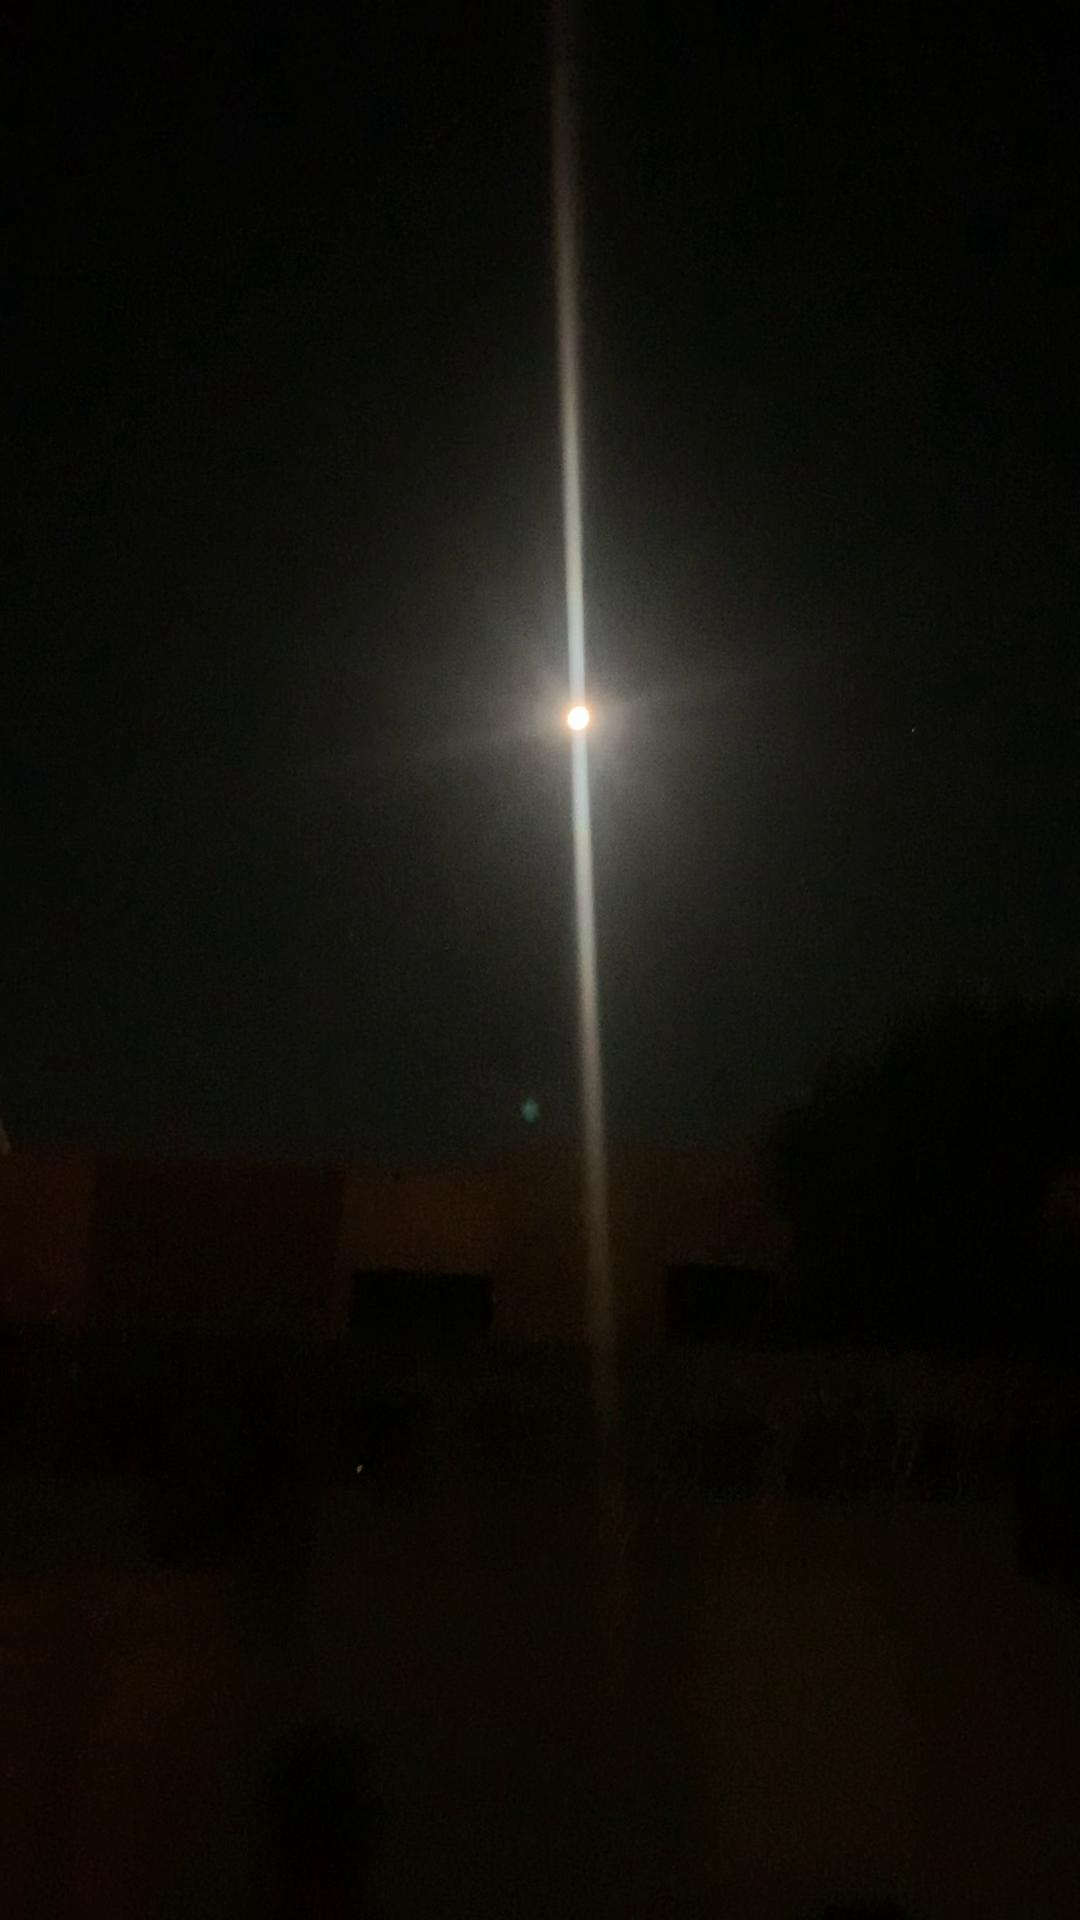moon: (553, 686, 628, 765)
